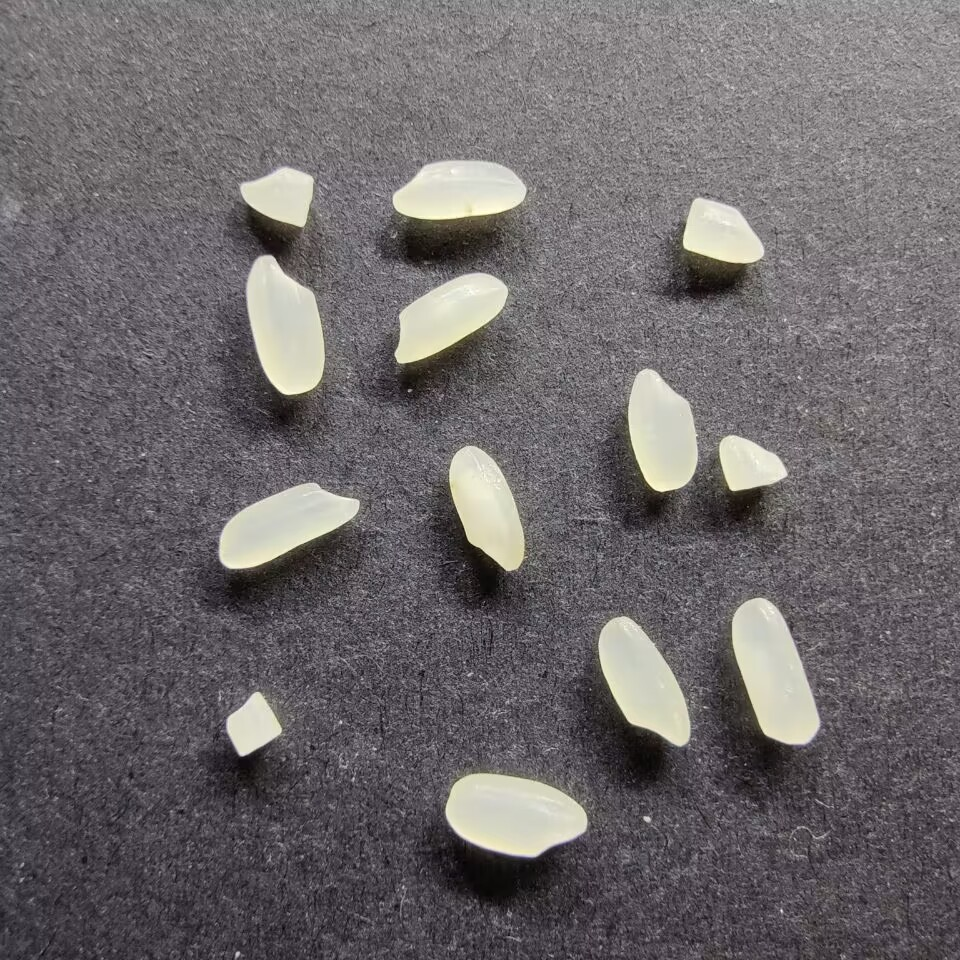broken: (681, 197, 767, 263), (238, 164, 314, 231), (716, 433, 790, 493), (221, 689, 283, 757)
rice: (730, 597, 822, 747), (596, 615, 692, 749), (218, 480, 362, 569), (444, 772, 589, 858), (244, 250, 327, 397), (390, 272, 510, 366), (447, 444, 527, 573), (626, 368, 699, 493), (389, 158, 529, 221)
